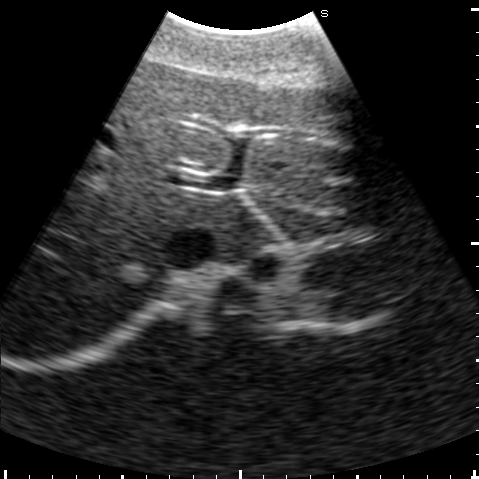IVC: (160, 225, 217, 270)
S1: (211, 197, 279, 263)
S2: (245, 184, 413, 241)
S3: (235, 85, 409, 210)
